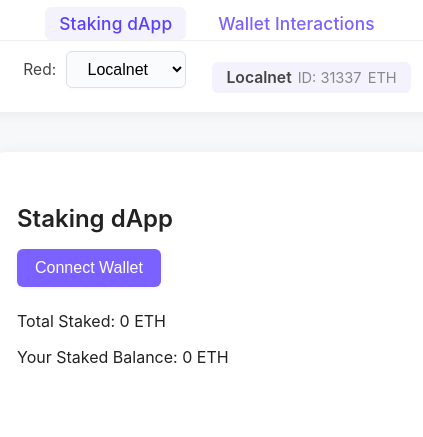
Test: App Component › when wallet is disconnected › shows error message when connection fails
Click the button "Connect Wallet" at (89, 268), box x1=17 y1=249 x2=161 y2=287
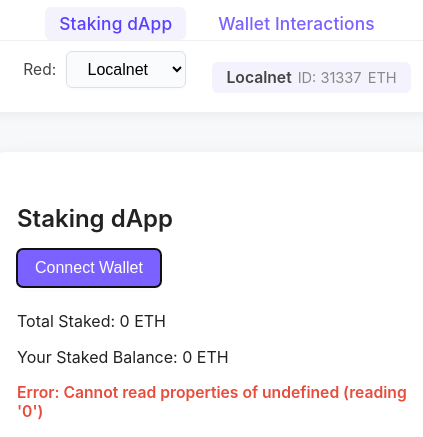
Now the text "Error:" is shown, box x1=17 y1=383 x2=407 y2=421
